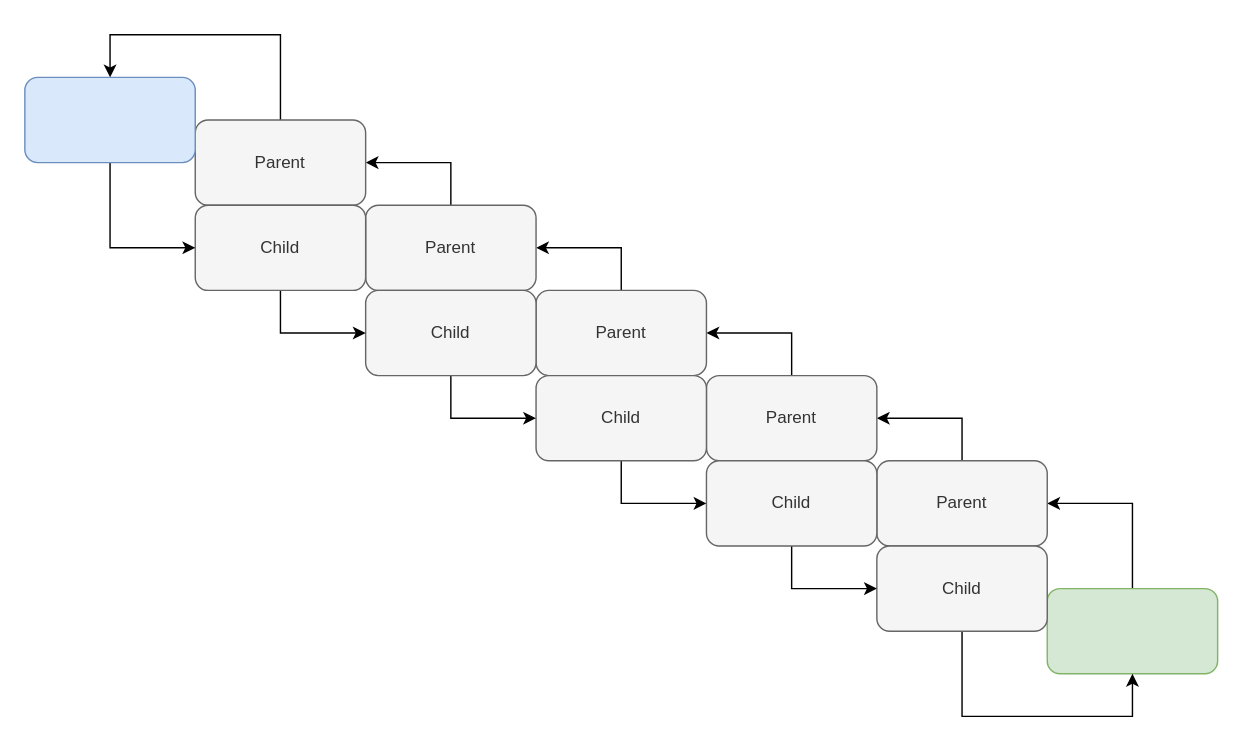
The diagram is 1243 pixels wide and 753 high, and some of its shapes have lost their labels. Here are the shapes that lost their labels. From the top down, the centre of each, then its label:
pixel 109 119: Start
pixel 1132 630: Goal
